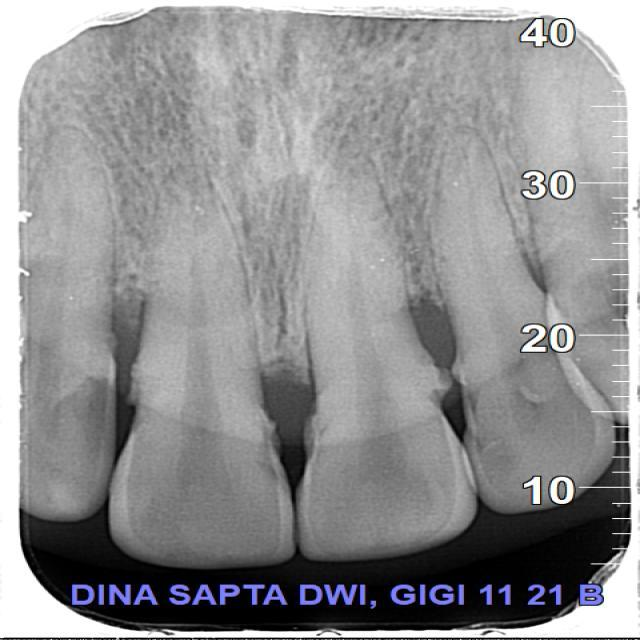individual-tooth-8tto: (301, 162, 483, 560), (435, 131, 616, 523), (114, 179, 294, 568)
